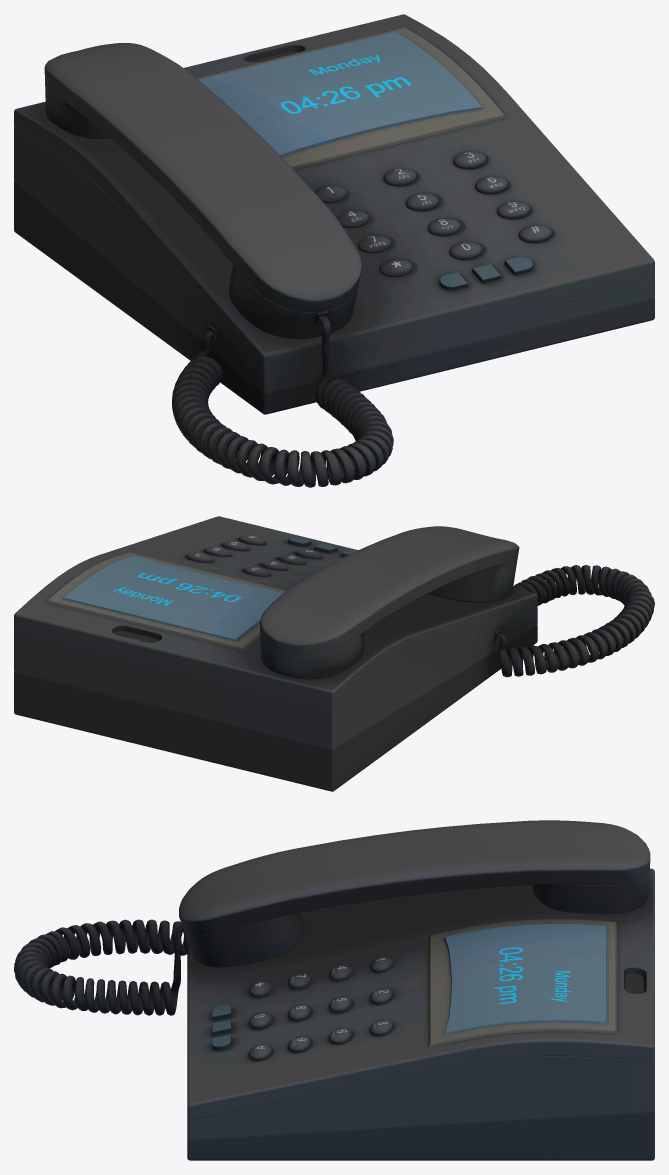
File: Telephone.fbx
3 views of the same model, one above another, from view 1: azimuth 30°, elevation 25°; view 2: azimuth 150°, elevation 25°; view 3: azimuth 270°, elevation 25° (orthographic). The views are drawn at different scales.
Visible parts, largest first — view 1: node_id60; view 2: node_id60; view 3: node_id60.
Part boxes in pixels (<box>): node_id60: <box>14,14,654,487</box>; node_id60: <box>14,516,654,791</box>; node_id60: <box>14,820,654,1160</box>.
Size of the model in its own units: 0.512 by 0.1879 by 0.6312.
Materials: 1 (1 with a texture image).
